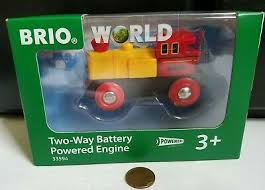brio: (83, 33, 204, 144)
